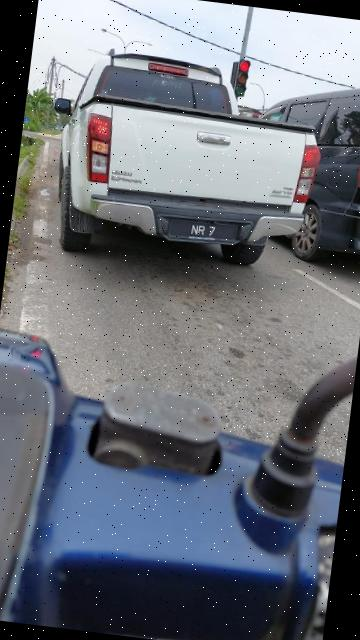License_Plate: (175, 217, 238, 247)
car: (40, 40, 339, 303)
